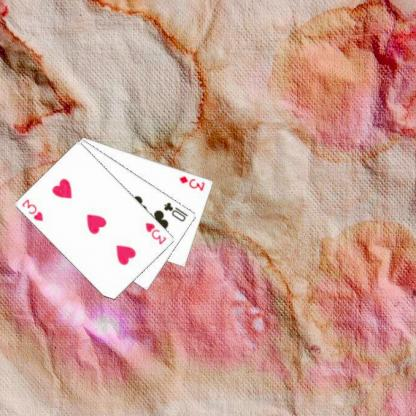10C: (162, 199, 190, 223)
3D: (176, 173, 206, 192)
3H: (19, 196, 45, 223), (143, 220, 168, 246)
